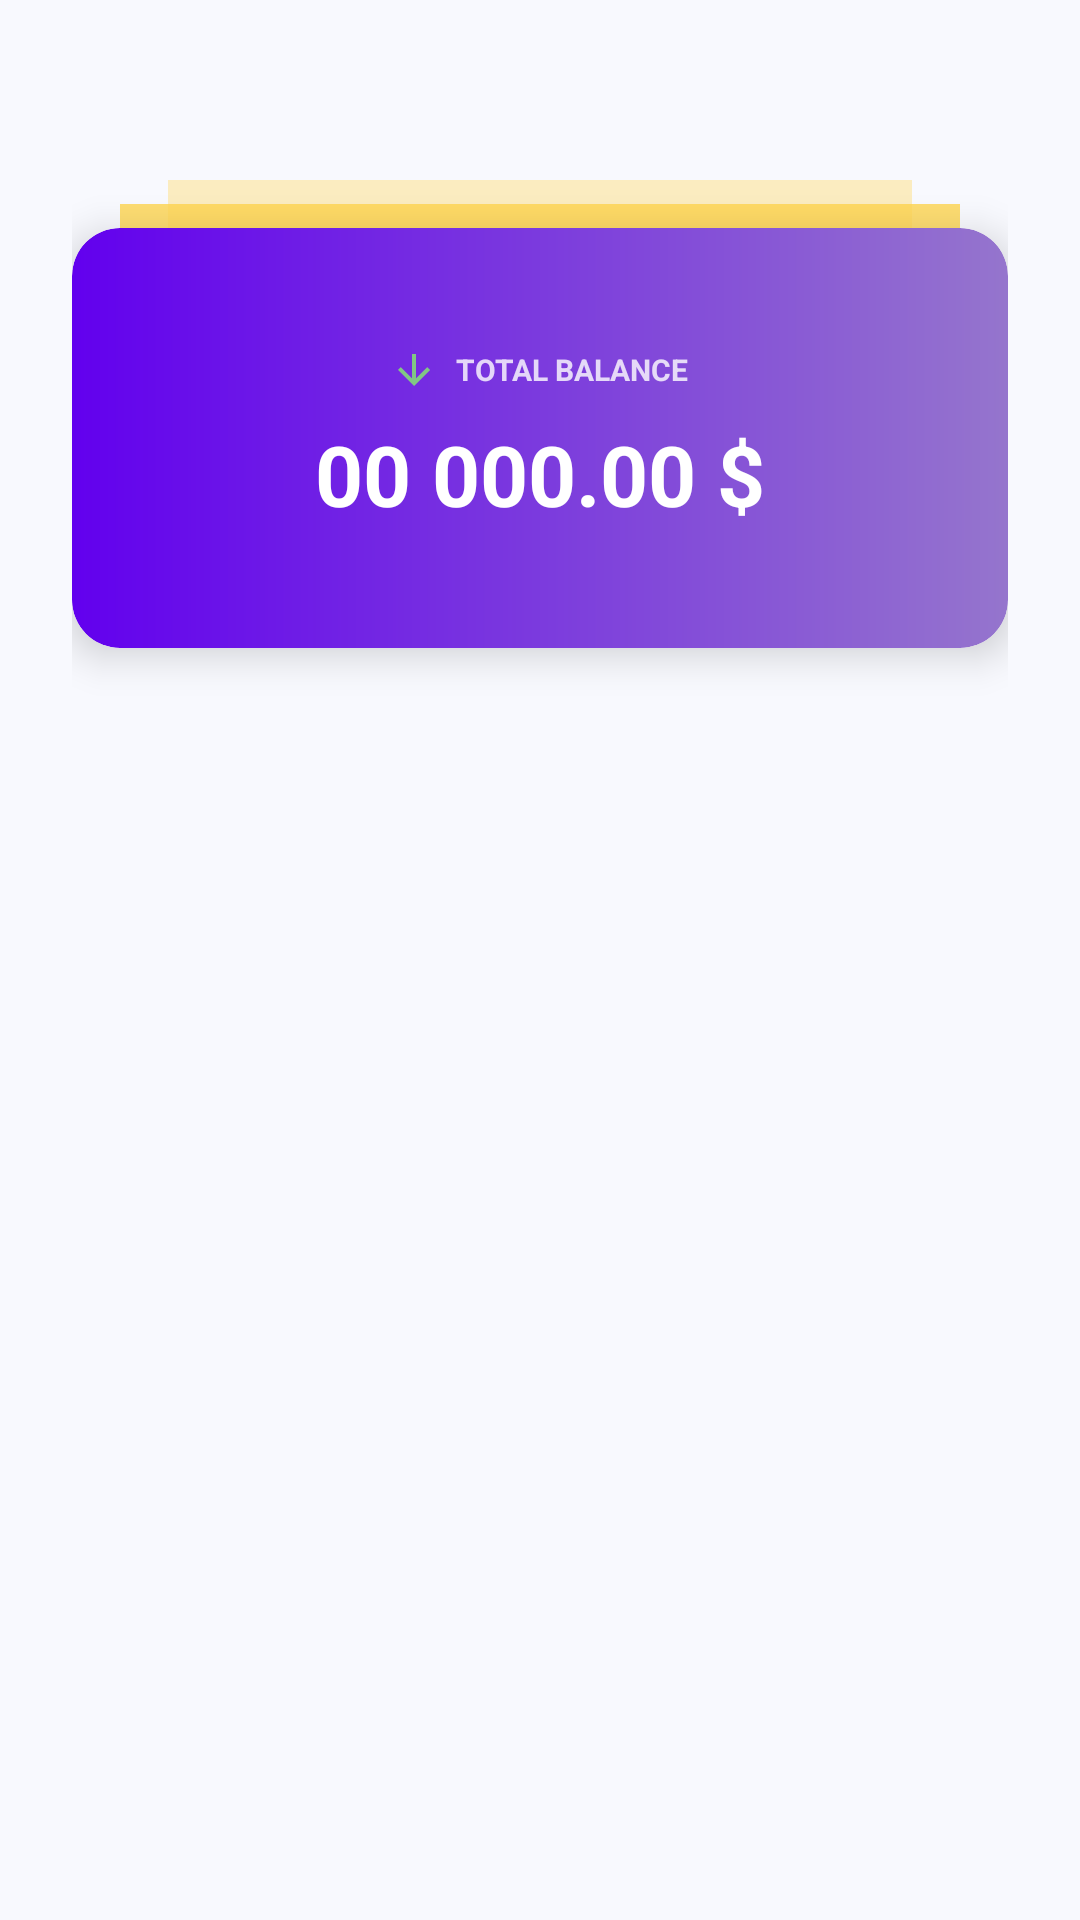

Icons on this 1080x1920 Android screen, each with the point to tap as [x,y]:
income: [414,370]
